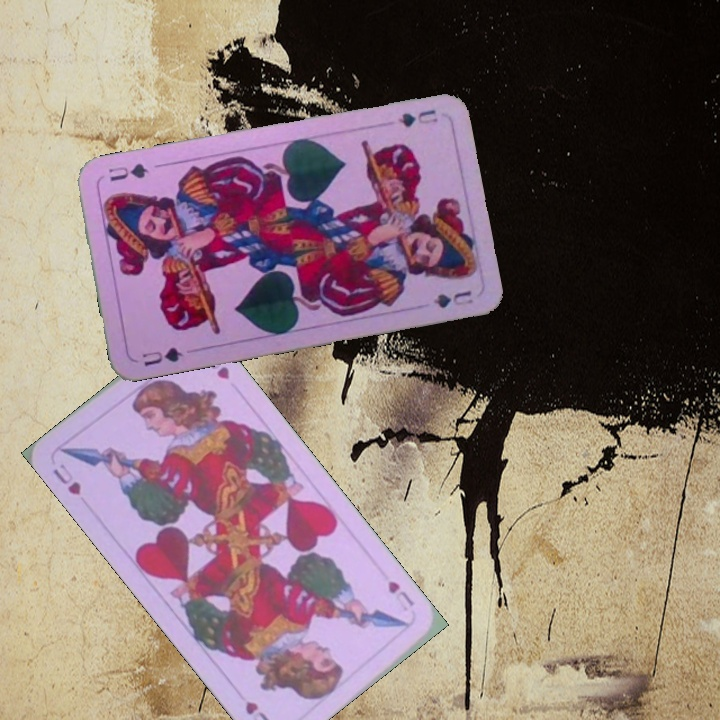GU: (138, 343, 187, 369), (394, 105, 441, 130)
HU: (48, 459, 84, 498), (383, 577, 417, 615)
